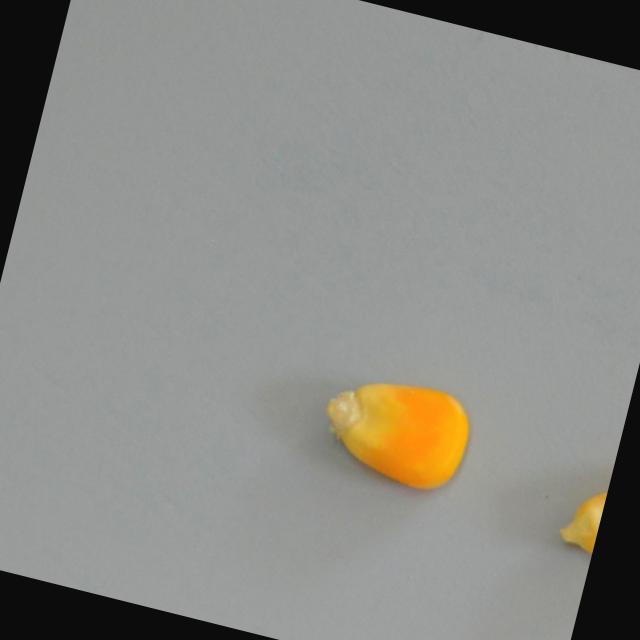entero: (305, 361, 481, 501), (549, 445, 616, 561)
